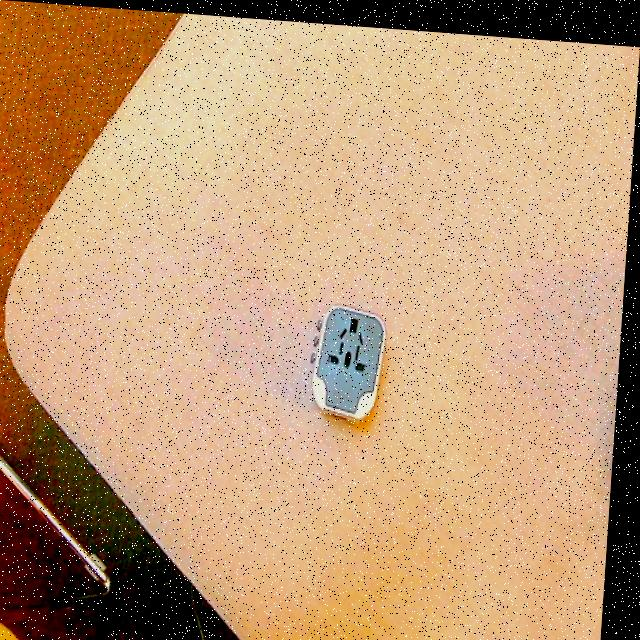adapter: (311, 297, 392, 419)
